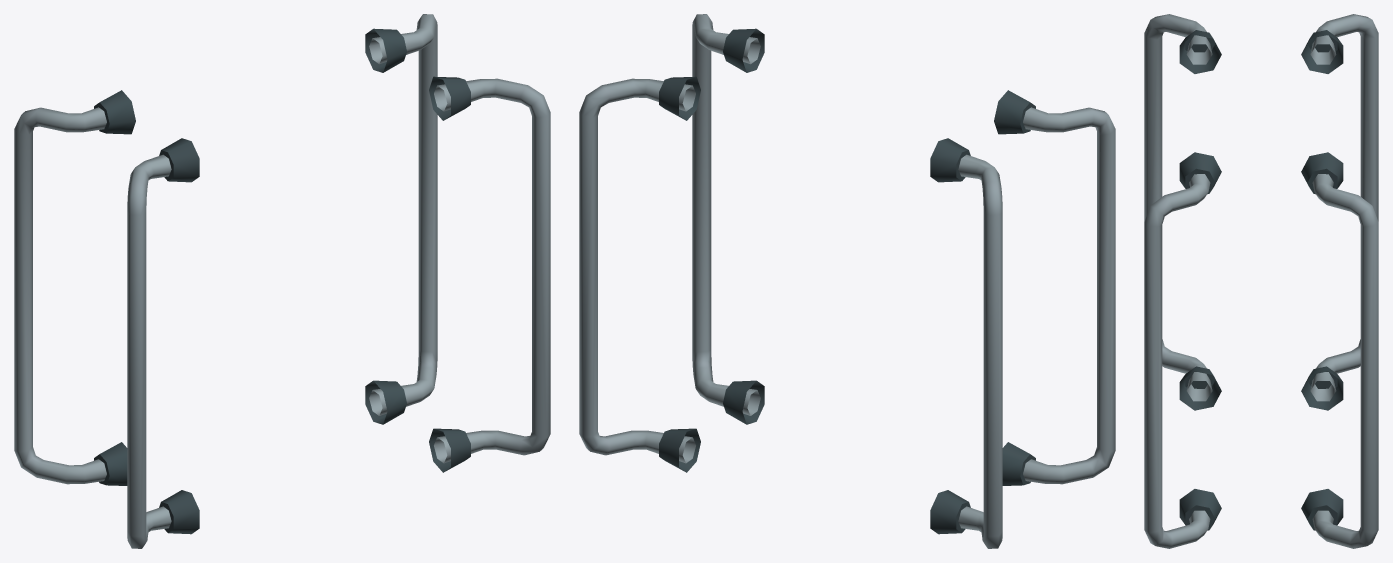
File: Battery_005.glb
The picture shows the model from 3 angles, left to right: view 1: azimuth 30°, elevation 25°; view 2: azimuth 150°, elevation 25°; view 3: azimuth 270°, elevation 25°; orthographic projection. The views are drawn at different scales.
Visible parts, largest first — view 1: Battery_005; view 2: Battery_005; view 3: Battery_005.
Part boxes in pixels (<box>): Battery_005: <box>14,14,550,548</box>; Battery_005: <box>579,14,1115,548</box>; Battery_005: <box>1144,14,1378,548</box>.
Bounding box in the file's own units: 0.6742 × 0.6036 × 0.3412.
Materials: 1 (1 with a texture image).
